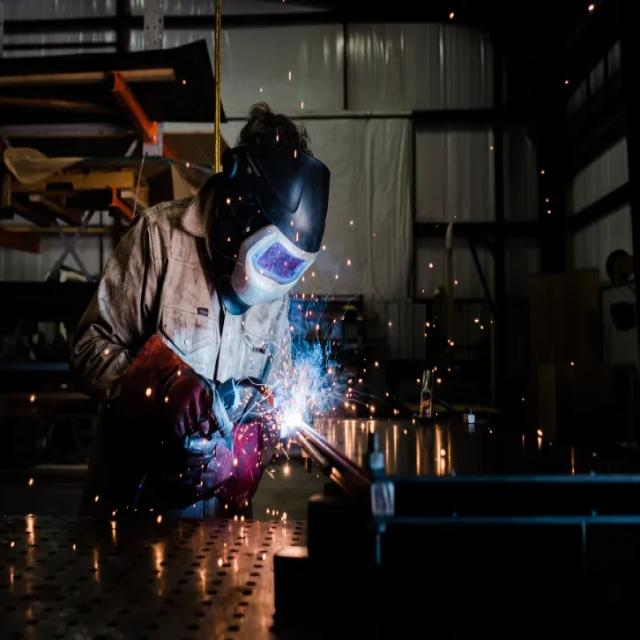welding: (284, 399, 306, 434)
